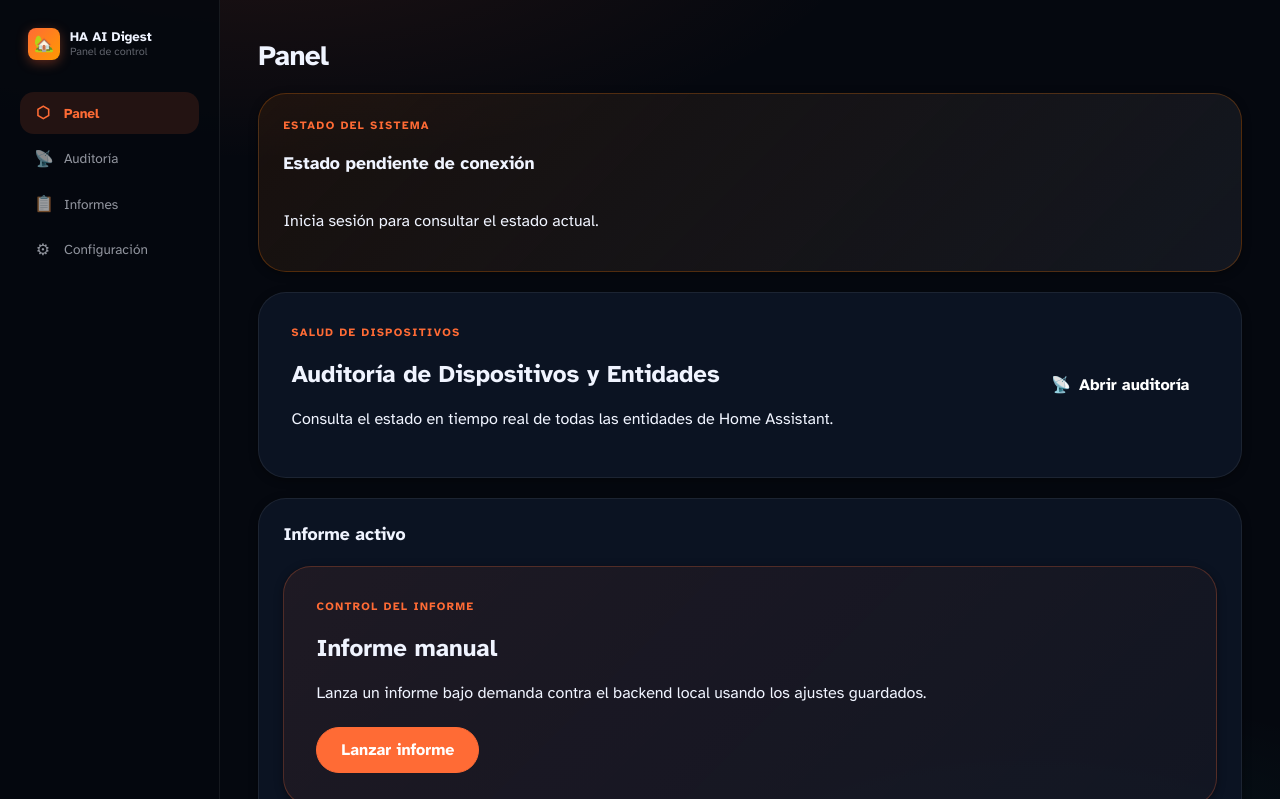
Scenario: App report route › keeps the completed lifecycle card visible long enough to follow its report link
Click the button "Lanzar informe": (398,750) [316,727,479,773]
(page scrolled)
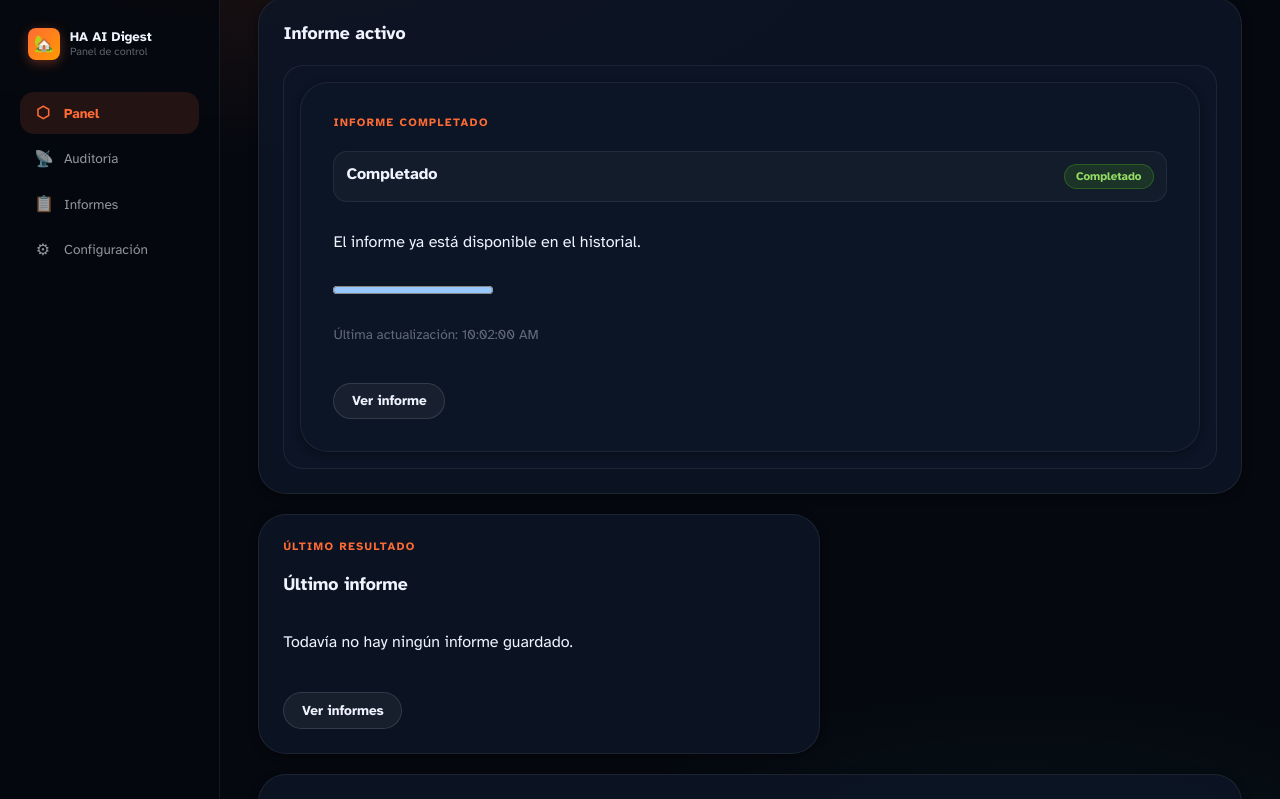
Result: the link to "/reports/report-9" reads "Ver informe" at [333,382,445,419]
